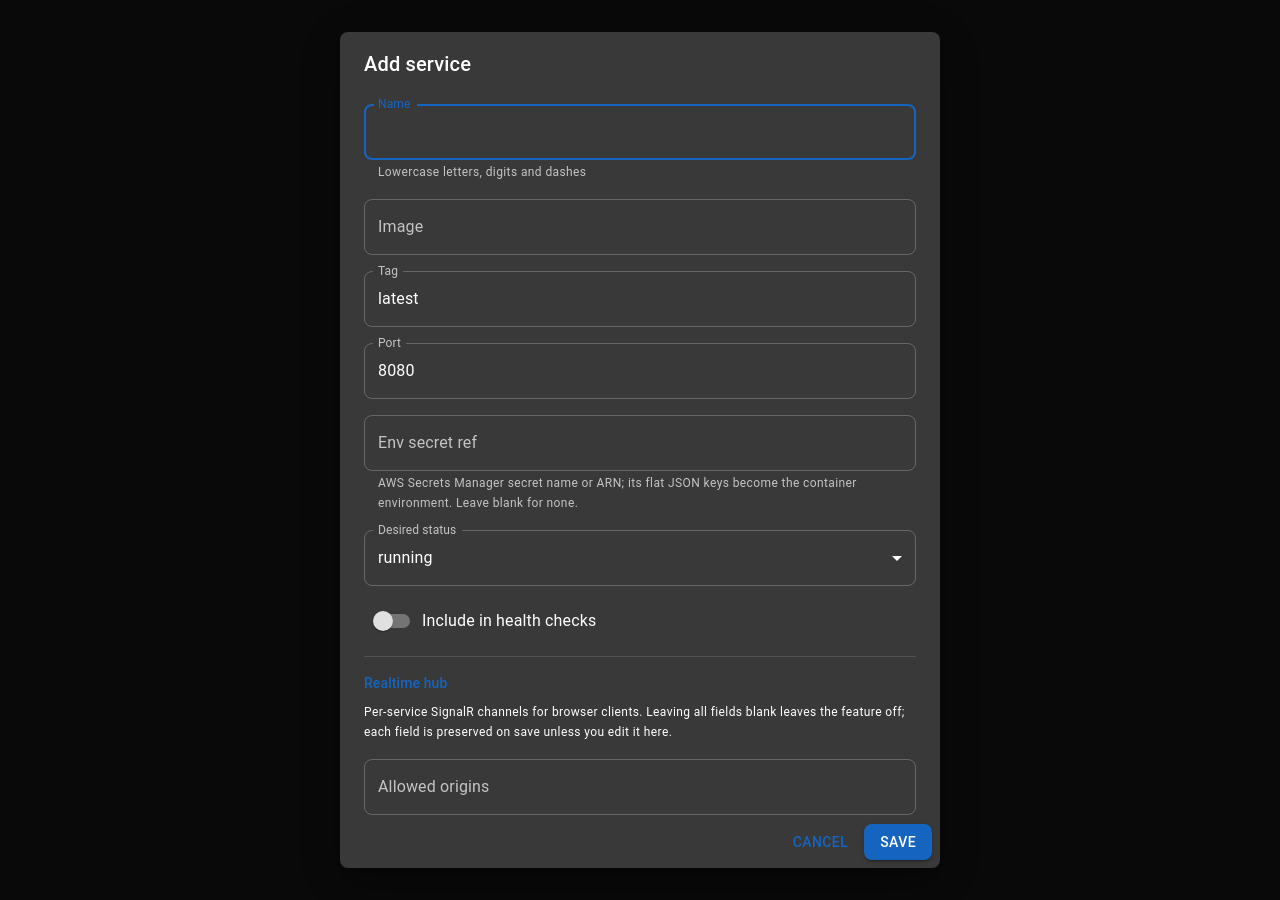
Test: ServiceFormDialog › requires a name
The width and height of the screenshot is (1280, 900).
In the field labelled "Image": [640, 227] box [364, 199, 916, 255], type "registry/api"
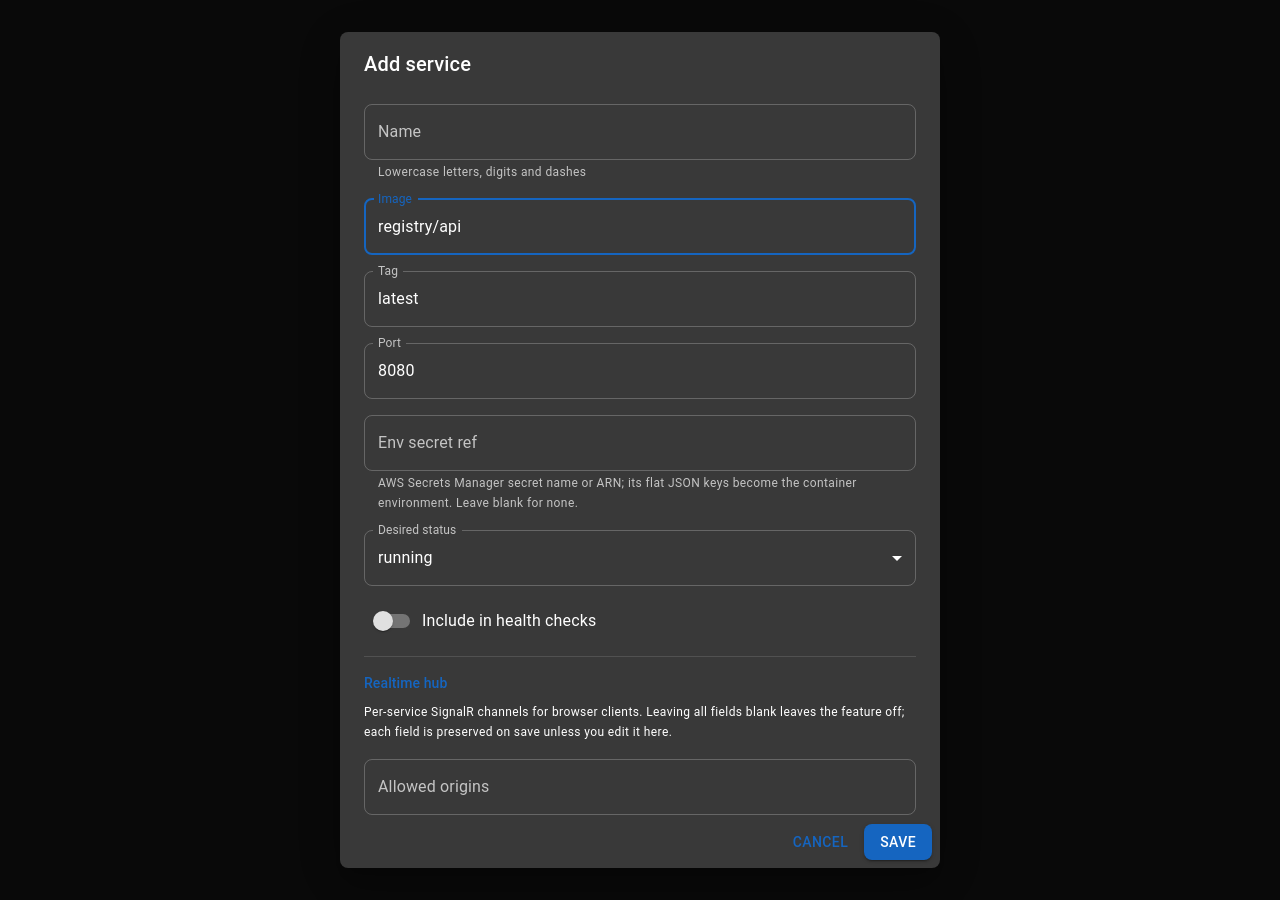
Click the button "Save": [898, 842] box [864, 824, 932, 860]
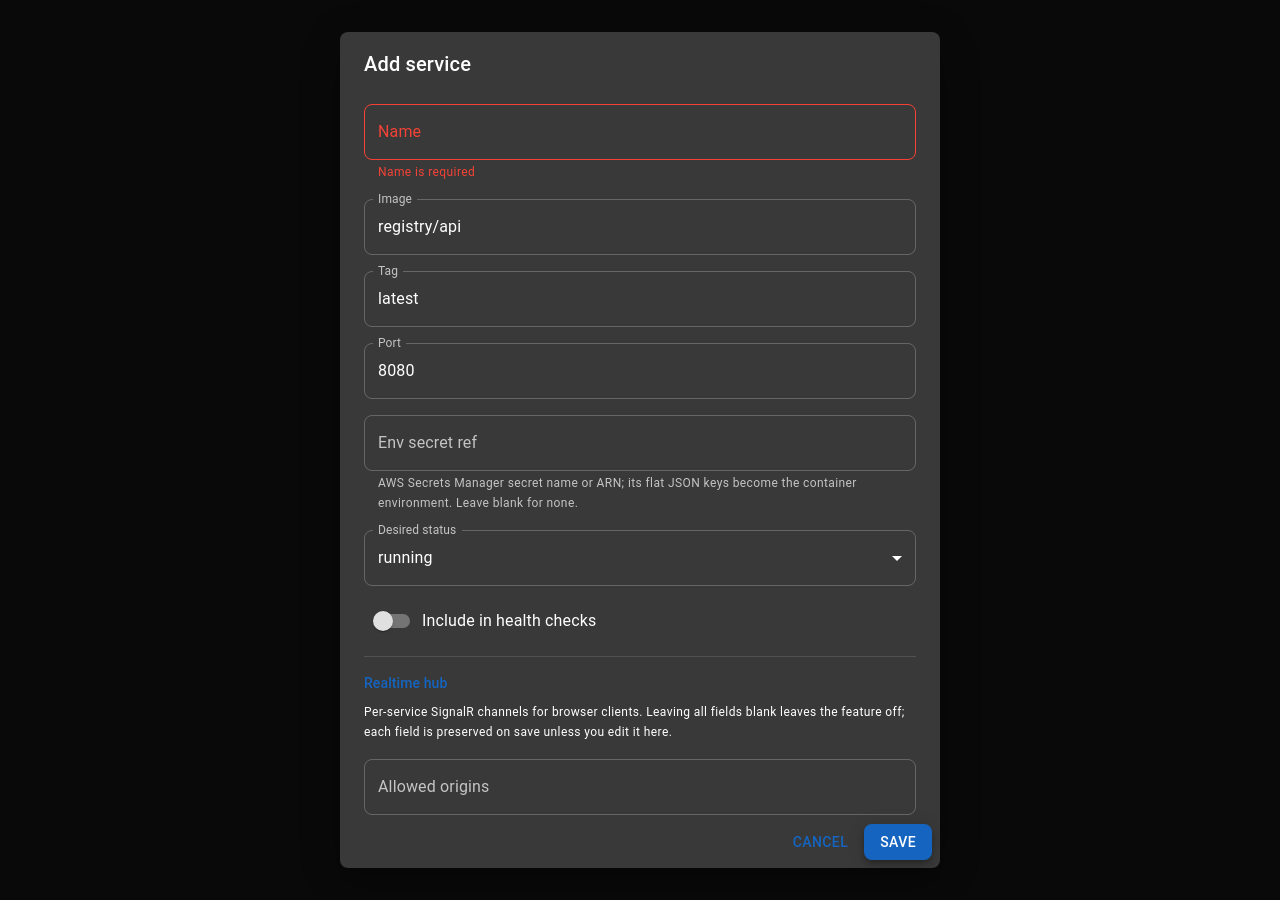
Now the text "Name is required" is shown, box [378, 165, 475, 179]
